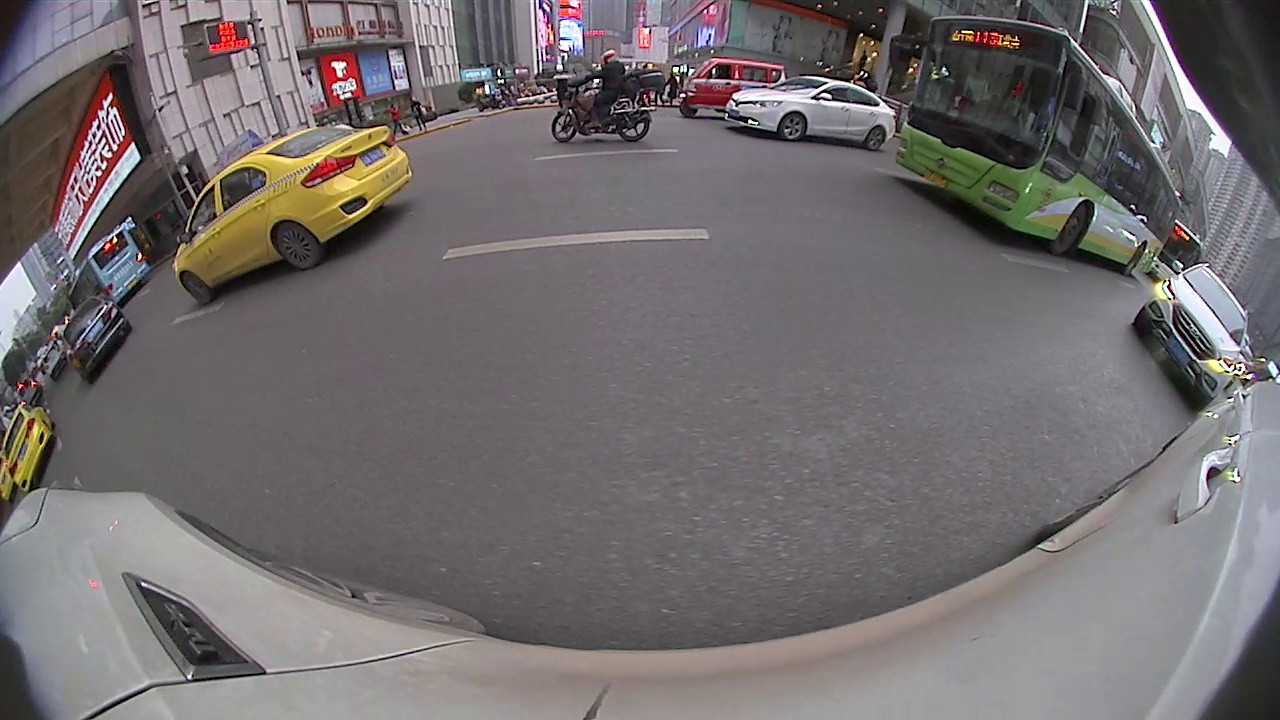bus: (892, 13, 1181, 277), (73, 220, 148, 314)
car: (174, 104, 413, 312), (1133, 264, 1256, 413), (723, 76, 899, 148), (57, 293, 134, 386), (1, 402, 57, 493)
front: (1054, 199, 1095, 258), (176, 271, 218, 306), (553, 108, 576, 145), (780, 113, 809, 140)
rear: (268, 223, 324, 269), (615, 108, 649, 143), (866, 125, 889, 148)
rider: (550, 53, 649, 150), (673, 58, 787, 122)
